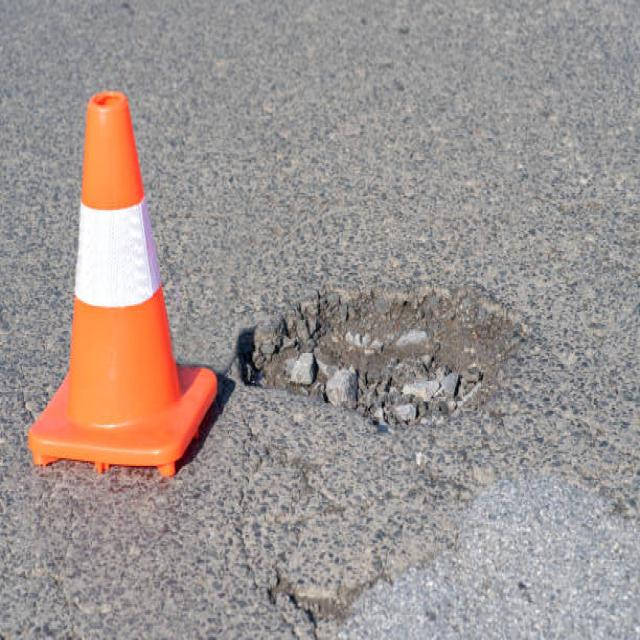Traffic Cone: (15, 63, 239, 500)
